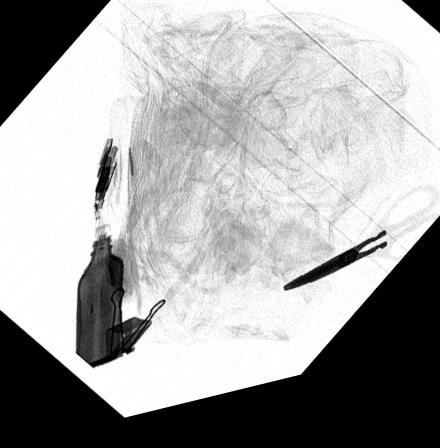Scissors: (280, 203, 440, 309)
